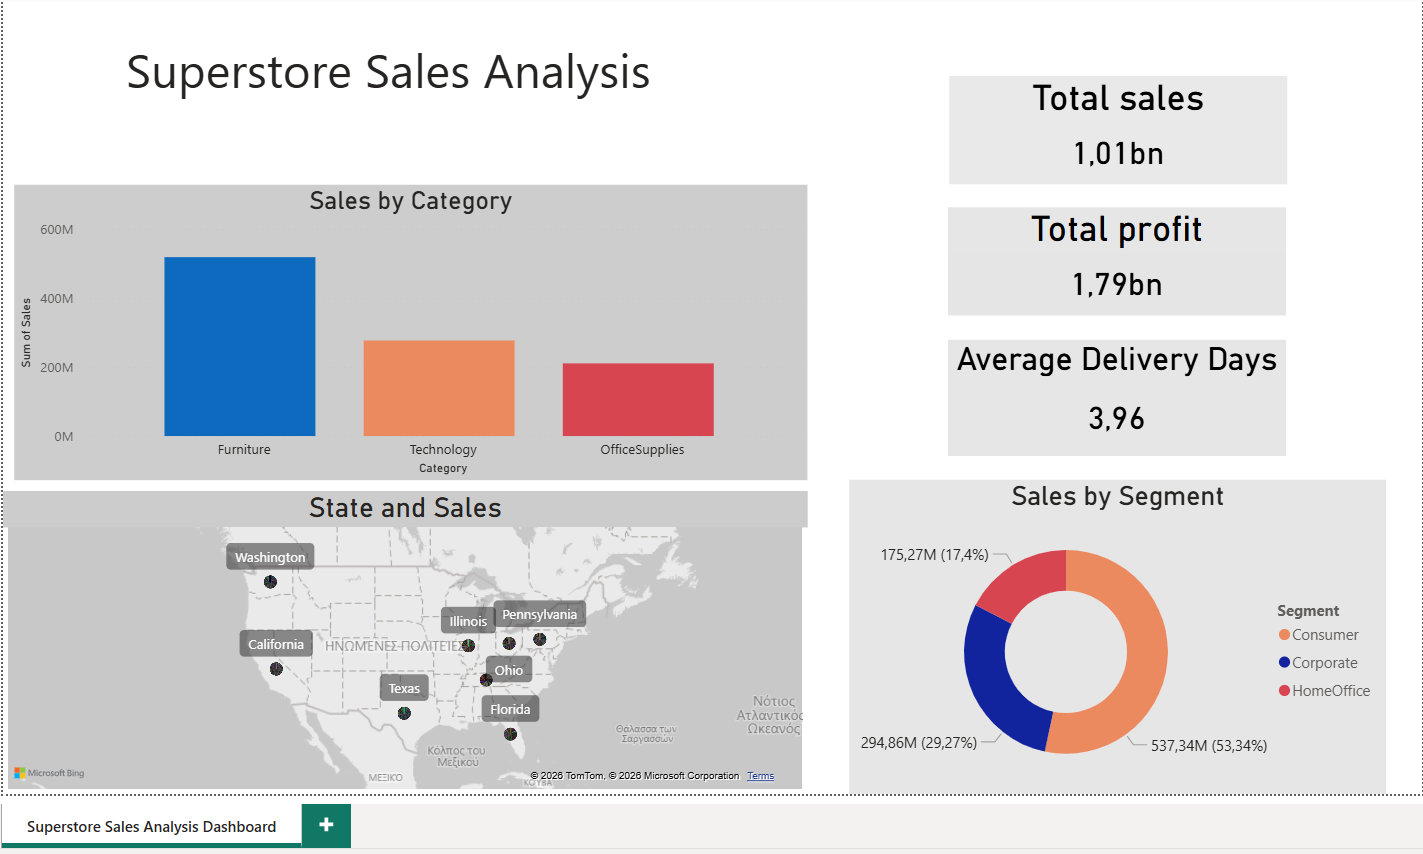

The dashboard page shown, as its layout file describes it:
{"tool":"powerbi","page":{"name":"Superstore Sales Analysis Dashboard","canvas":[1280,720],"ordinal":0},"visuals":[{"type":"card","title":"Total sales ","fields":{"Values":["Sum(superstore_cleaned.Sales)"]},"box":[853.5,72.1,304.5,97.8],"z":0},{"type":"card","title":"Total profit","fields":{"Values":["Sum(superstore_cleaned.Profit)"]},"box":[852.3,190.8,304.5,97.8],"z":1000},{"type":"card","title":"Average Delivery Days","fields":{"Values":["superstore_cleaned.Avg Delivery Days"]},"box":[852.3,310.5,304.7,104.7],"z":2000},{"type":"columnChart","title":"Sales by Category","fields":{"Category":["superstore_cleaned.Category"],"Y":["Sum(superstore_cleaned.Sales)"]},"box":[9.8,170,715.4,266.6],"z":3000},{"type":"map","fields":{"Series":["superstore_cleaned.Sales"],"Category":["superstore_cleaned.State"]},"box":[0,446.1,725.5,273.7],"z":4000},{"type":"donutChart","title":"Sales by Segment","fields":{"Y":["Sum(superstore_cleaned.Sales)"],"Category":["superstore_cleaned.Segment"]},"box":[763,436.6,484.2,283.7],"z":5000},{"type":"textbox","box":[106.4,31.8,494,80.7],"z":6000}]}

Visuals, with their boxes on the page's 1280x720 design canvas (x1, y1, x2, y2). These are canvas units, not pixel positions in the 1423x854 screenshot, which may show the page scaled, cropped or inside an application window:
"Total sales " card: <box>854,72,1158,170</box>
"Total profit" card: <box>852,191,1157,289</box>
"Average Delivery Days" card: <box>852,310,1157,415</box>
"Sales by Category" columnChart: <box>10,170,725,437</box>
map - superstore_cleaned.Sales x superstore_cleaned.State: <box>0,446,726,720</box>
"Sales by Segment" donutChart: <box>763,437,1247,720</box>
textbox: <box>106,32,600,112</box>
